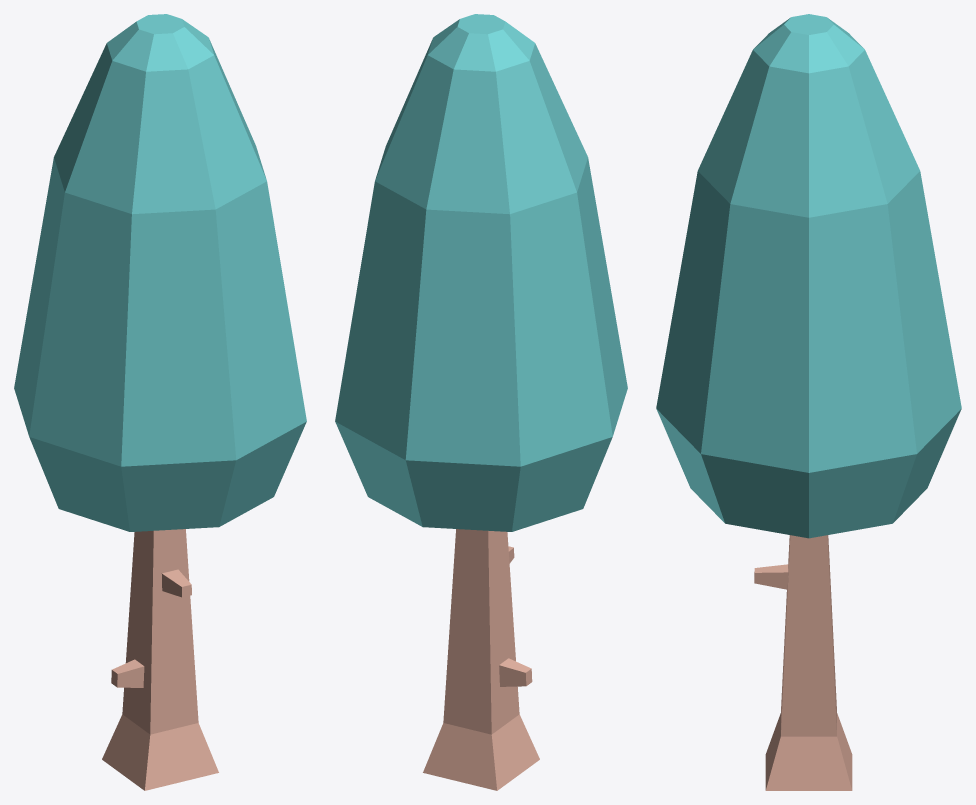
Rendered from tree_cone_dark.gltf.
3 renders of one model, left to right at view 1: azimuth 30°, elevation 25°; view 2: azimuth 150°, elevation 25°; view 3: azimuth 270°, elevation 25°, orthographic.
Parts seen in each view (by area): view 1: tree_cone_dark; view 2: tree_cone_dark; view 3: tree_cone_dark.
Boxes of the visible parts, left/top/right/bottom form: tree_cone_dark: left=14, top=14, right=306, bottom=790; tree_cone_dark: left=335, top=14, right=627, bottom=790; tree_cone_dark: left=656, top=14, right=961, bottom=790.
Size of the model in its own units: 0.5297 by 1.43 by 0.5297.
